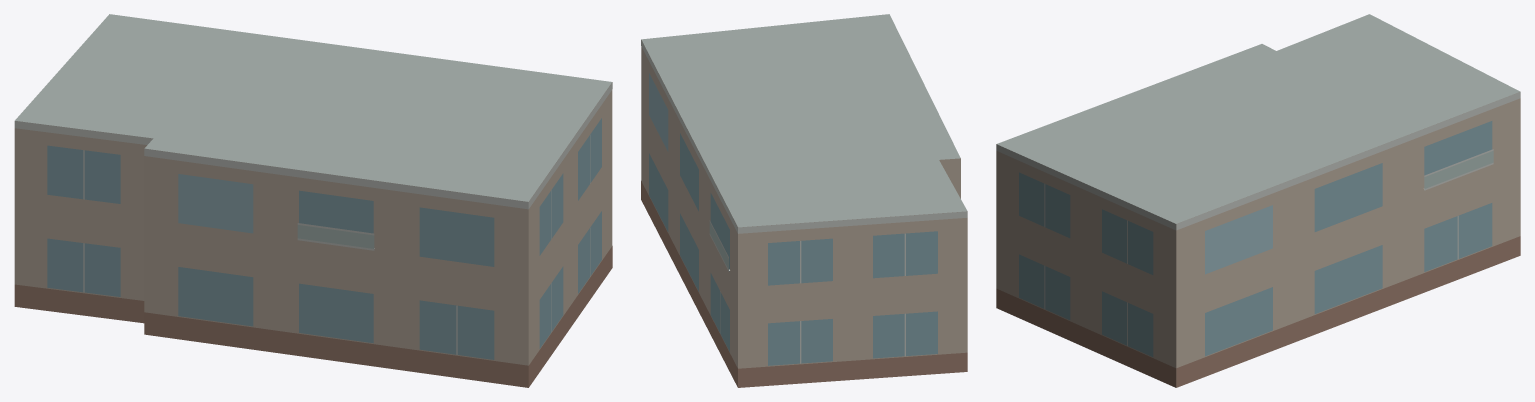
The model's file is survey-upis-33024007.glb.
3 views of the same model, side by side, from view 1: azimuth 30°, elevation 25°; view 2: azimuth 150°, elevation 25°; view 3: azimuth 270°, elevation 25° (orthographic). The views are drawn at different scales.
Visible parts, largest first — view 1: survey-upis-33024007.tmp; view 2: survey-upis-33024007.tmp; view 3: survey-upis-33024007.tmp.
Part boxes in pixels (x1,y1,x2,y2): survey-upis-33024007.tmp: [14, 14, 612, 387]; survey-upis-33024007.tmp: [641, 14, 967, 387]; survey-upis-33024007.tmp: [996, 14, 1520, 387].
Size of the model in its own units: 16.76 by 6.1 by 17.68.
